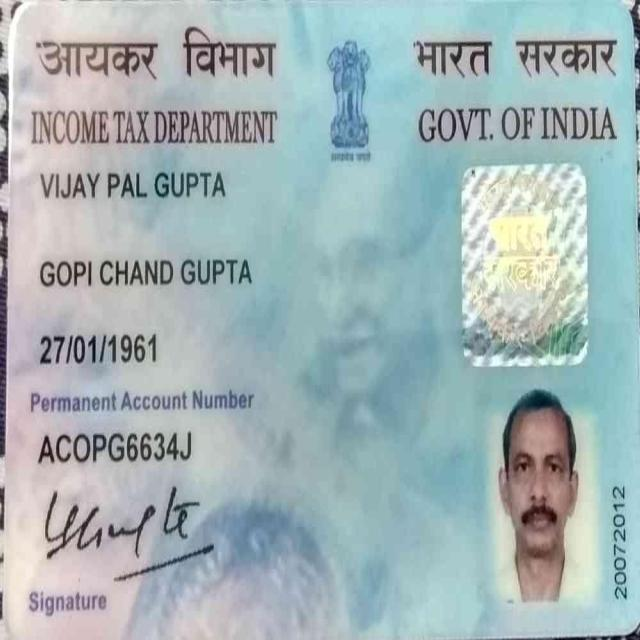pan_card: (12, 0, 638, 627)
